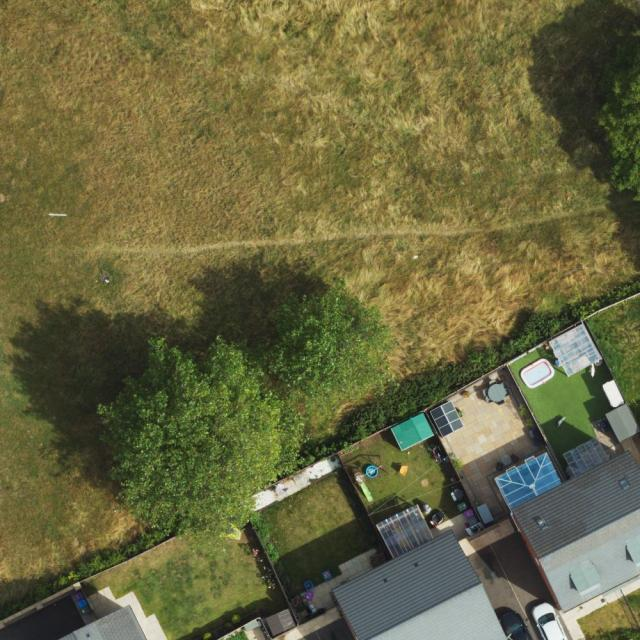roof: (514, 450, 640, 613), (332, 527, 510, 640), (54, 602, 149, 640)
skylight: (495, 450, 565, 512), (534, 515, 552, 533), (617, 475, 633, 491)
